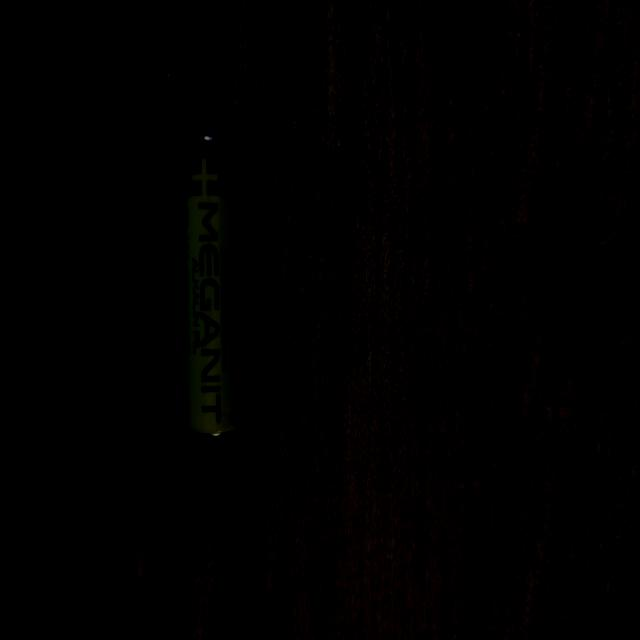AAA: (180, 132, 239, 440)
